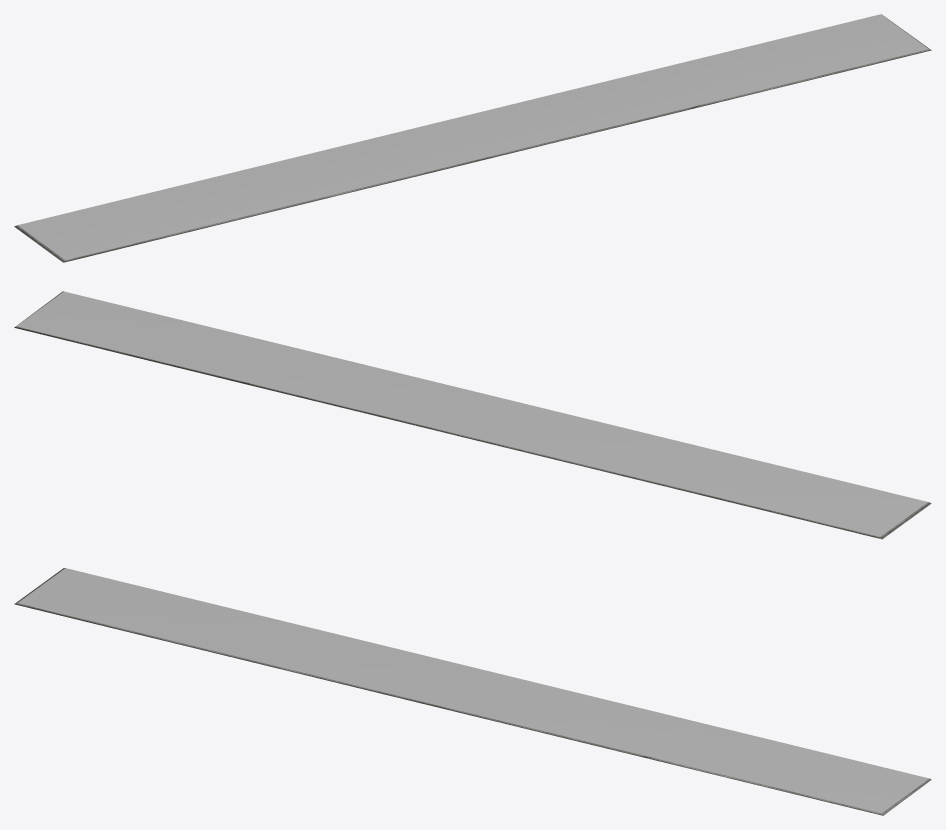
File: SM_Sidewalk_01_Splines_31.fbx
3 views of the same model, one above another, from view 1: azimuth 30°, elevation 25°; view 2: azimuth 150°, elevation 25°; view 3: azimuth 330°, elevation 25° (orthographic).
Parts seen in each view (by area): view 1: SM_Sidewalk_01_Splines_31; view 2: SM_Sidewalk_01_Splines_31; view 3: SM_Sidewalk_01_Splines_31.
Part boxes in pixels (x1,y1,x2,y2): SM_Sidewalk_01_Splines_31: (14, 14, 931, 262); SM_Sidewalk_01_Splines_31: (14, 291, 931, 539); SM_Sidewalk_01_Splines_31: (14, 568, 931, 815).
Size of the model in its own units: 1231 by 122 by 1.81.
Materials: 2 (1 with a texture image).
